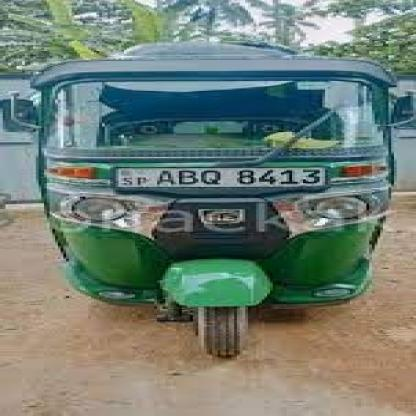number plate: (111, 167, 328, 189)
three wheeler front: (6, 35, 416, 356)
